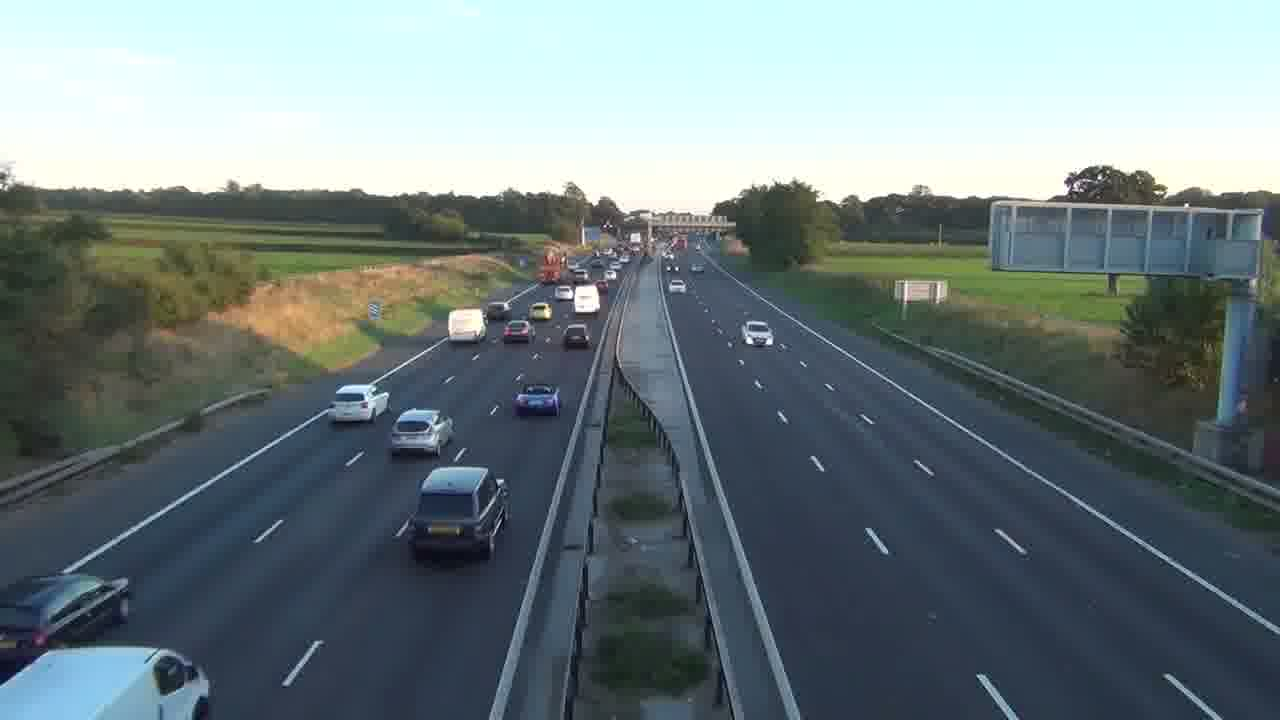car: (407, 464, 511, 560), (389, 408, 454, 457), (332, 383, 390, 424), (513, 384, 561, 418), (742, 319, 774, 348), (562, 323, 591, 349), (503, 319, 532, 343)
truck: (0, 644, 213, 718), (447, 307, 488, 342)
